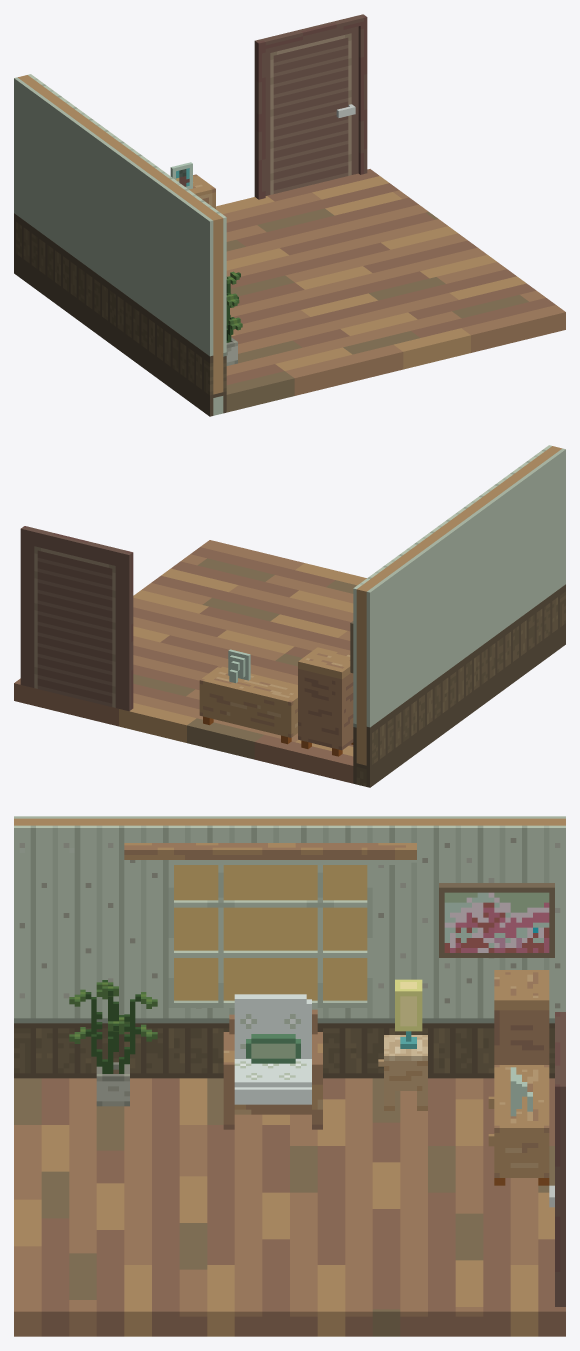
Rendered from voxel_room_set.glb.
3 renders of one model, top to bottom at view 1: azimuth 30°, elevation 25°; view 2: azimuth 150°, elevation 25°; view 3: azimuth 270°, elevation 25°, orthographic. The views are drawn at different scales.
Parts seen in each view (by area): view 1: Untitled.017, Untitled.016, Untitled.015, Untitled.010; view 2: Untitled.016, Untitled.017, Untitled.015, Untitled.001, Untitled.014, Untitled.013; view 3: Untitled.017, Untitled.016, Untitled.012, Untitled.009, Untitled.011, Untitled.014, Untitled.001, Untitled.010, Untitled.015, Untitled.008, Untitled.007, Untitled.013.
Part boxes in pixels (bbox=[...]): Untitled.017: bbox=[216, 169, 565, 412]; Untitled.016: bbox=[14, 74, 226, 416]; Untitled.015: bbox=[254, 14, 367, 199]; Untitled.010: bbox=[226, 271, 242, 365]; Untitled.016: bbox=[353, 445, 565, 787]; Untitled.017: bbox=[14, 540, 366, 783]; Untitled.015: bbox=[20, 526, 133, 711]; Untitled.001: bbox=[298, 647, 353, 756]; Untitled.014: bbox=[199, 666, 297, 744]; Untitled.013: bbox=[228, 649, 250, 683]; Untitled.017: bbox=[14, 1078, 565, 1336]; Untitled.016: bbox=[14, 816, 565, 1078]; Untitled.012: bbox=[124, 843, 416, 1007]; Untitled.009: bbox=[223, 994, 322, 1129]; Untitled.011: bbox=[439, 883, 554, 957]; Untitled.014: bbox=[488, 1065, 549, 1185]; Untitled.001: bbox=[494, 970, 549, 1064]; Untitled.010: bbox=[69, 980, 157, 1106]; Untitled.015: bbox=[549, 1012, 565, 1306]; Untitled.008: bbox=[378, 1035, 427, 1110]; Untitled.007: bbox=[395, 979, 422, 1048]; Untitled.013: bbox=[510, 1067, 532, 1116].
Size of the model in its own units: 2.1 by 1.1 by 2.
12 materials, 12 textured.
